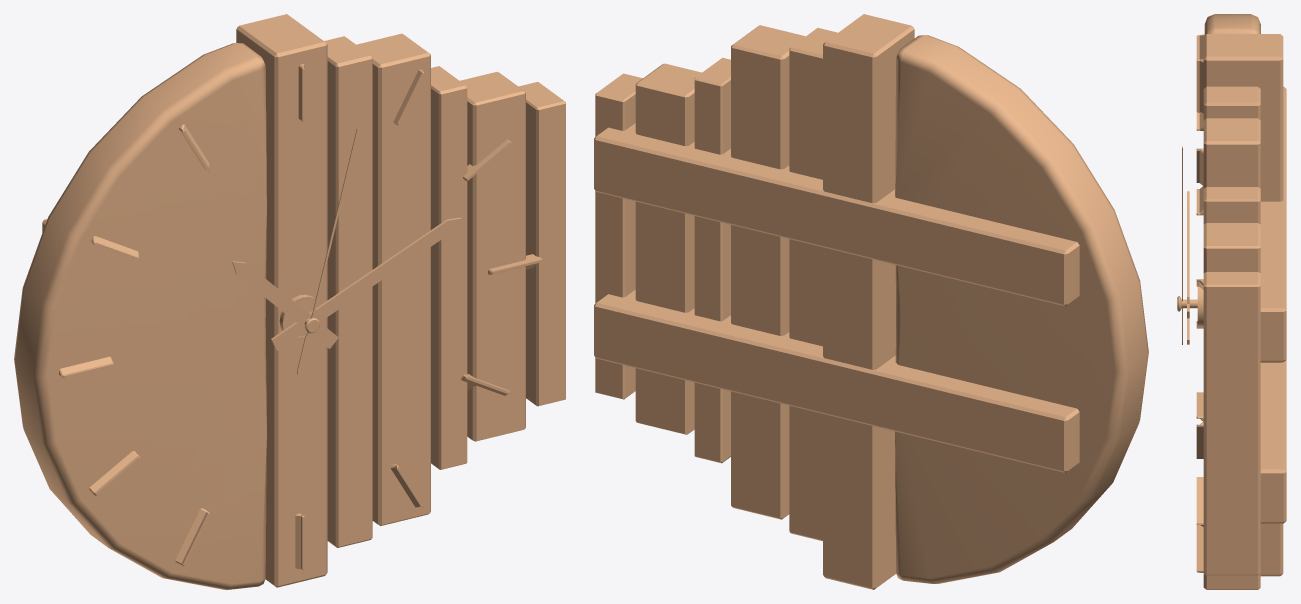
The model's file is clock for bedroom room.fbx.
3 renders of one model, left to right at view 1: azimuth 30°, elevation 25°; view 2: azimuth 150°, elevation 25°; view 3: azimuth 270°, elevation 25°, orthographic. The views are drawn at different scales.
Visible parts, largest first — view 1: polySurface56; view 2: polySurface56; view 3: polySurface56.
Part boxes in pixels (x1=…): polySurface56: x1=14, y1=14, x2=565, y2=589; polySurface56: x1=594, y1=14, x2=1148, y2=589; polySurface56: x1=1177, y1=14, x2=1286, y2=589.
Size of the model in its own units: 0.468 by 0.4523 by 0.0861.
